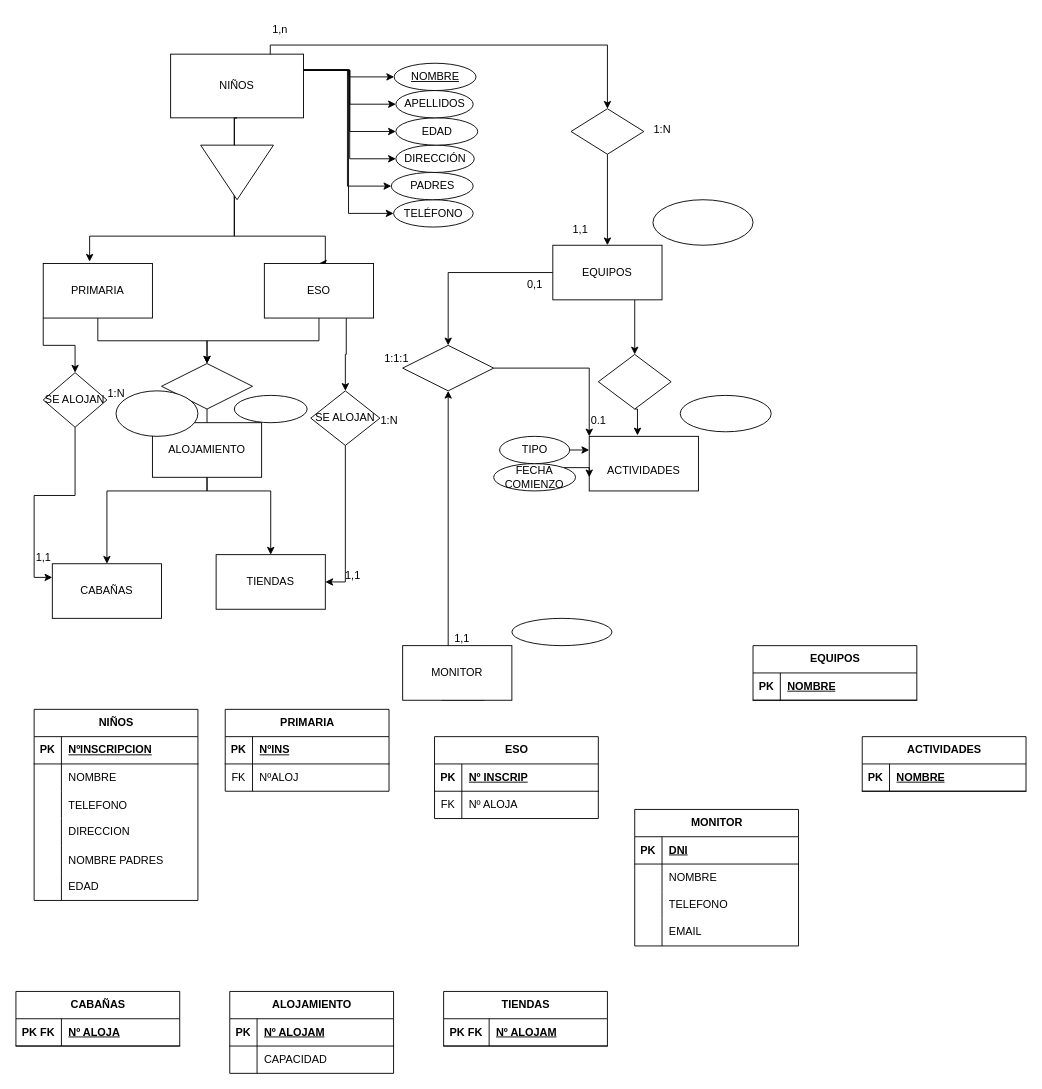
The diagram is 1042 pixels wide and 1089 high, and some of its shapes have lost their labels. Each missing label, with the centre of its shape:
"FORMAN" goes at (607,131).
"ID. ACTIV" goes at (725,413).
"ID. ALOJAMIENT" goes at (156,413).
"ID. EQUIPO" goes at (702,222).
"IMPARTE" goes at (448,367).
"IRAN A" goes at (207,386).
"IS A" goes at (236,172).
"Nº PLAZAS" goes at (270,408).
"NºMONIT" goes at (561,631).
"REALIZAN" goes at (634,381).
